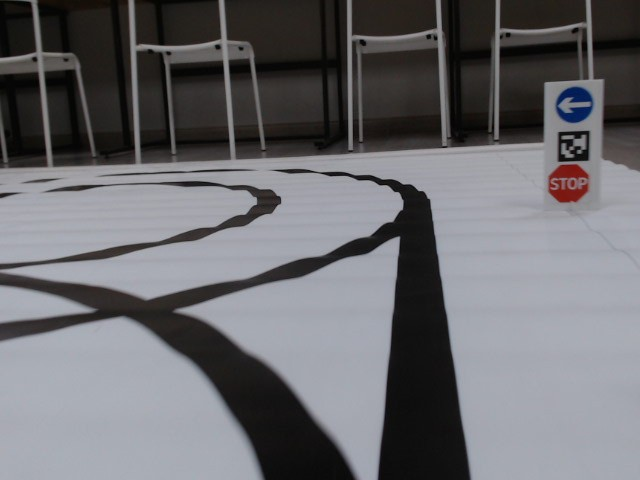Stop: (548, 163, 588, 206)
